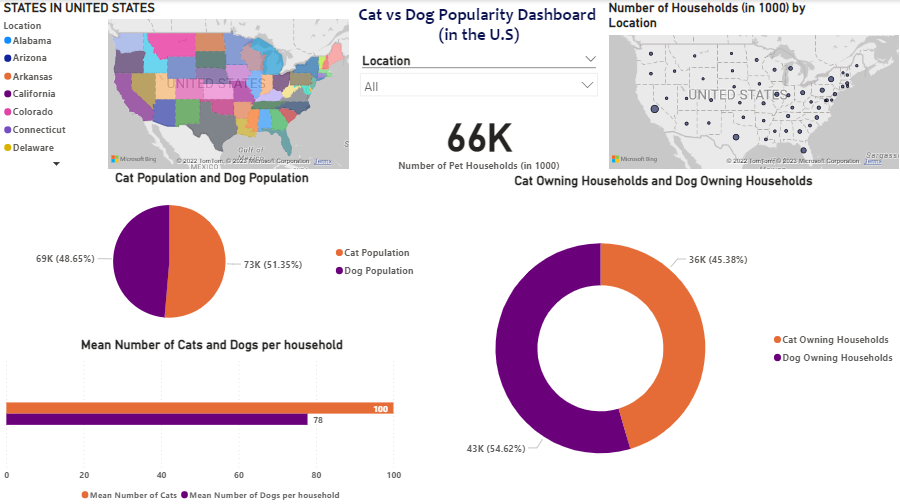

The page's visual inventory and layout, read from the dashboard file:
{"tool":"powerbi","page":{"name":"Page 1","canvas":[1280,720],"ordinal":0},"visuals":[{"type":"filledMap","title":"STATES IN UNITED STATES","fields":{"Series":["Location (States).Location"],"Category":["Location (States).Location"]},"box":[0,0,500.3,245.2],"z":0},{"type":"map","title":"Number of Households (in 1000) by Location ","fields":{"Size":["Sum(Location (States).Number of Households (in 1000))"],"Category":["Location (States).Location"]},"box":[857.5,0,422.4,245.2],"z":1000},{"type":"card","fields":{"Values":["Sum(Location (States).Number of Pet Households (in 1000))"]},"box":[500.3,147.4,357.2,97.8],"z":2000},{"type":"slicer","fields":{"Values":["Location (States).Location"]},"box":[500.3,69.4,357.2,78],"z":3000},{"type":"donutChart","fields":{"Y":["Sum(Location (States).Cat Owning Households)","Sum(Location (States).Dog Owning Households (1000s))"]},"box":[600.9,245.2,678.9,474.8],"z":4000},{"type":"pieChart","fields":{"Y":["Sum(Location (States).Cat Population)","Sum(Location (States).Dog Population (in 1000))"]},"box":[0,240.9,600.9,236.7],"z":5000},{"type":"clusteredBarChart","title":"Mean Number of Cats and Dogs per household","fields":{"Y":["Sum(Location (States).Mean Number of Cats)","Sum(Location (States).Mean Number of Dogs per household)"]},"box":[0,477.6,600.9,242.4],"z":6000},{"type":"textbox","box":[500.3,0,357.2,69.4],"z":6001}]}

Visuals, with their boxes in screenshot pixels (x1, y1, x2, y2), scaled from the page's 1280x720 canvas onto the 900x504 screenshot:
"STATES IN UNITED STATES" filledMap: [0,0,352,172]
"Number of Households (in 1000) by Location " map: [603,0,899,172]
card - Sum(Location (States).Number of Pet Households (in 1000)): [352,103,603,172]
slicer - Location (States).Location: [352,49,603,103]
donutChart - Sum(Location (States).Cat Owning Households) x Sum(Location (States).Dog Owning Households (1000s)): [423,172,899,503]
pieChart - Sum(Location (States).Cat Population) x Sum(Location (States).Dog Population (in 1000)): [0,169,423,334]
"Mean Number of Cats and Dogs per household" clusteredBarChart: [0,334,423,503]
textbox: [352,0,603,49]
